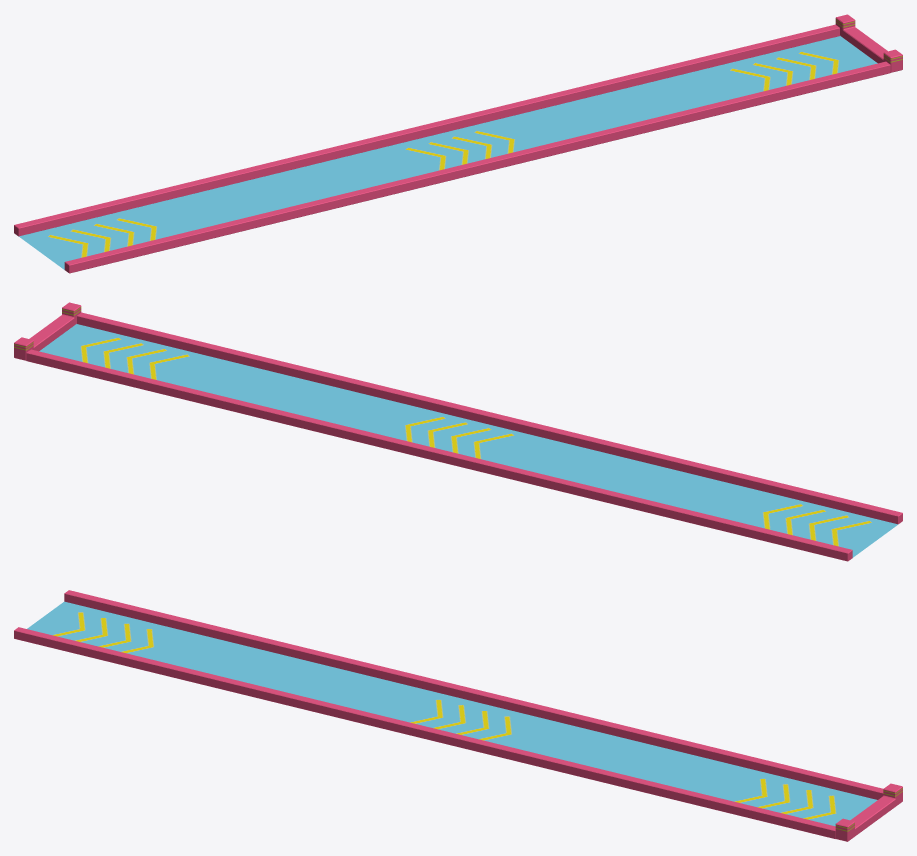
The model's file is RampStr8.fbx.
3 views of the same model, one above another, from view 1: azimuth 30°, elevation 25°; view 2: azimuth 150°, elevation 25°; view 3: azimuth 330°, elevation 25° (orthographic).
Visible parts, largest first — view 1: Plane.006, Cube.011, Cube.010, Cube.015; view 2: Plane.006, Cube.010, Cube.011, Cube.015; view 3: Plane.006, Cube.011, Cube.010, Cube.015.
Part boxes in pixels (box(x1,y1,x2,y2)): Plane.006: box(19, 36, 877, 269); Cube.011: box(64, 61, 890, 273); Cube.010: box(14, 24, 839, 236); Cube.015: box(835, 14, 902, 72); Plane.006: box(39, 324, 898, 557); Cube.010: box(26, 349, 852, 561); Cube.011: box(77, 312, 902, 524); Cube.015: box(14, 302, 81, 360); Plane.006: box(27, 601, 877, 826); Cube.011: box(14, 627, 835, 838); Cube.010: box(64, 590, 883, 799); Cube.015: box(835, 783, 902, 841).
Bounding box in the file's own units: 202 × 3.66 × 23.27.
3 materials, 1 textured.
